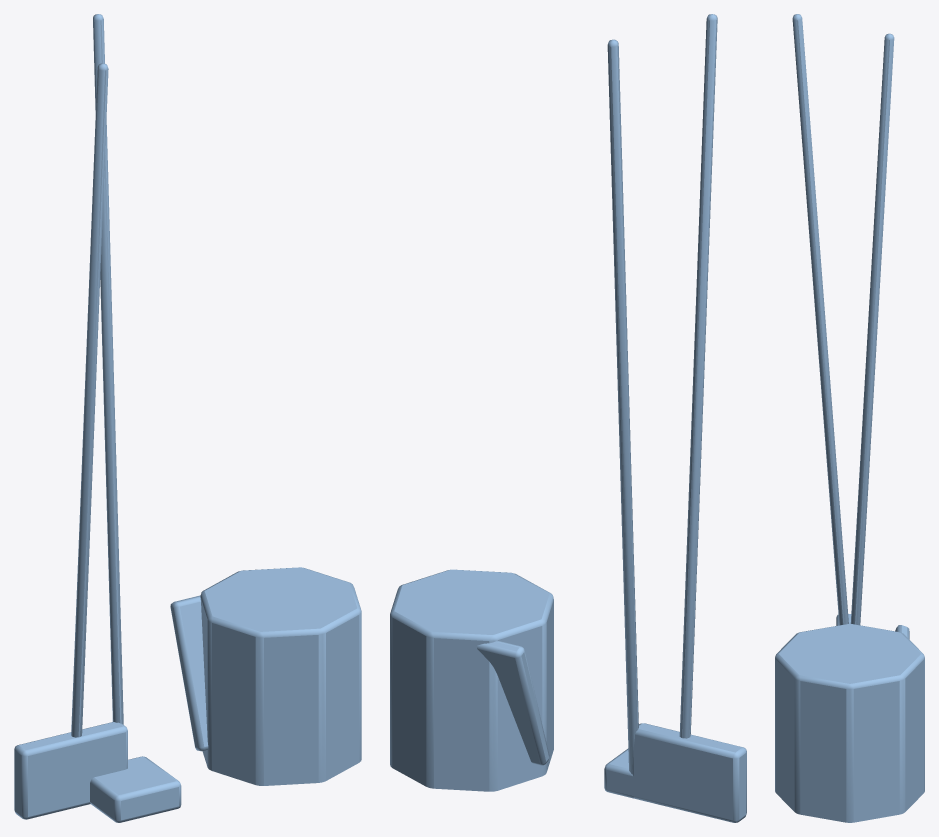
The model's file is ChoiLau_Gop.glb.
3 views of the same model, side by side, from view 1: azimuth 30°, elevation 25°; view 2: azimuth 150°, elevation 25°; view 3: azimuth 270°, elevation 25° (orthographic). The views are drawn at different scales.
Visible parts, largest first — view 1: geometry_0; view 2: geometry_0; view 3: geometry_0.
Part boxes in pixels (x1=…): geometry_0: x1=14, y1=14, x2=361, y2=822; geometry_0: x1=390, y1=14, x2=746, y2=822; geometry_0: x1=775, y1=14, x2=924, y2=822.
Bounding box in the file's own units: 0.5087 × 1.1 × 0.2173.
